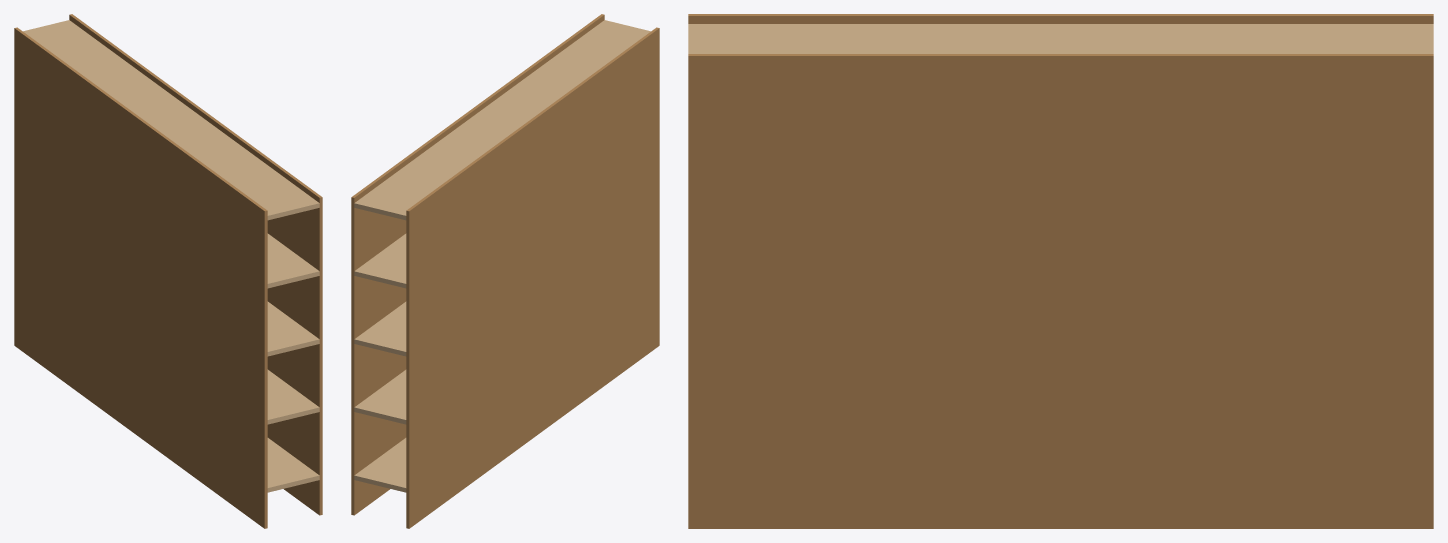
The picture shows the model from 3 angles, left to right: view 1: azimuth 30°, elevation 25°; view 2: azimuth 150°, elevation 25°; view 3: azimuth 270°, elevation 25°; orthographic projection. The views are drawn at different scales.
Visible parts, largest first — view 1: estante_almacen_b; view 2: estante_almacen_b; view 3: estante_almacen_b.
Part boxes in pixels (x1,y1,x2,y2): estante_almacen_b: (14, 14, 322, 528); estante_almacen_b: (351, 14, 659, 528); estante_almacen_b: (688, 14, 1433, 528).
Size of the model in its own units: 0.4 by 3 by 2.1.
